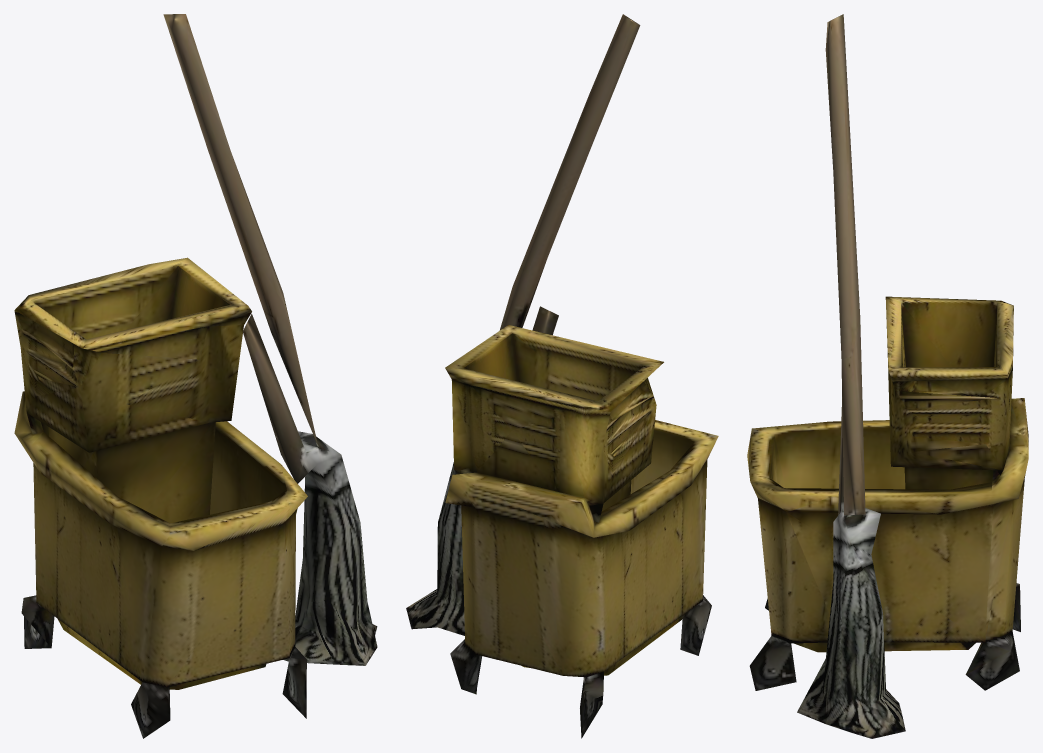
File: tripo_convert_44b1da30-43fa-4cde-ae5d-8f90816f2744.fbx
3 renders of one model, left to right at view 1: azimuth 30°, elevation 25°; view 2: azimuth 150°, elevation 25°; view 3: azimuth 270°, elevation 25°, orthographic. The views are drawn at different scales.
Visible parts, largest first — view 1: tripo_node_44b1da30; view 2: tripo_node_44b1da30; view 3: tripo_node_44b1da30.
Boxes of the visible parts, box(x1,y1,x2,y2) form: tripo_node_44b1da30: box(14, 14, 377, 738); tripo_node_44b1da30: box(406, 14, 718, 738); tripo_node_44b1da30: box(747, 14, 1028, 738).
Bounding box in the file's own units: 0.4389 × 0.9987 × 0.3995.
1 material, 1 textured.
